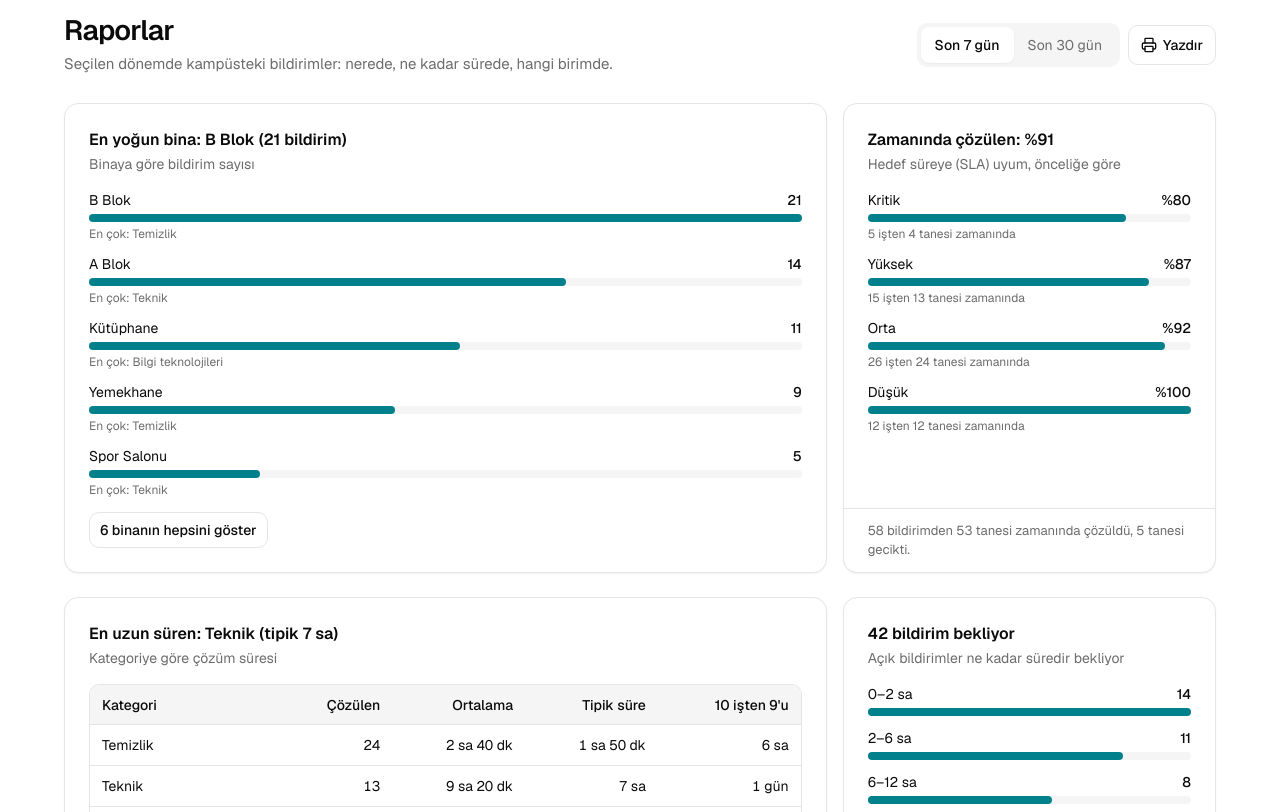
it: Reports › loads the last 30 days when the period is switched
What coordinates should you click on to do the following:
click the button "Son 30 gün"
I would click on:
 (1065, 45)
Its box is [1014,27,1116,63].
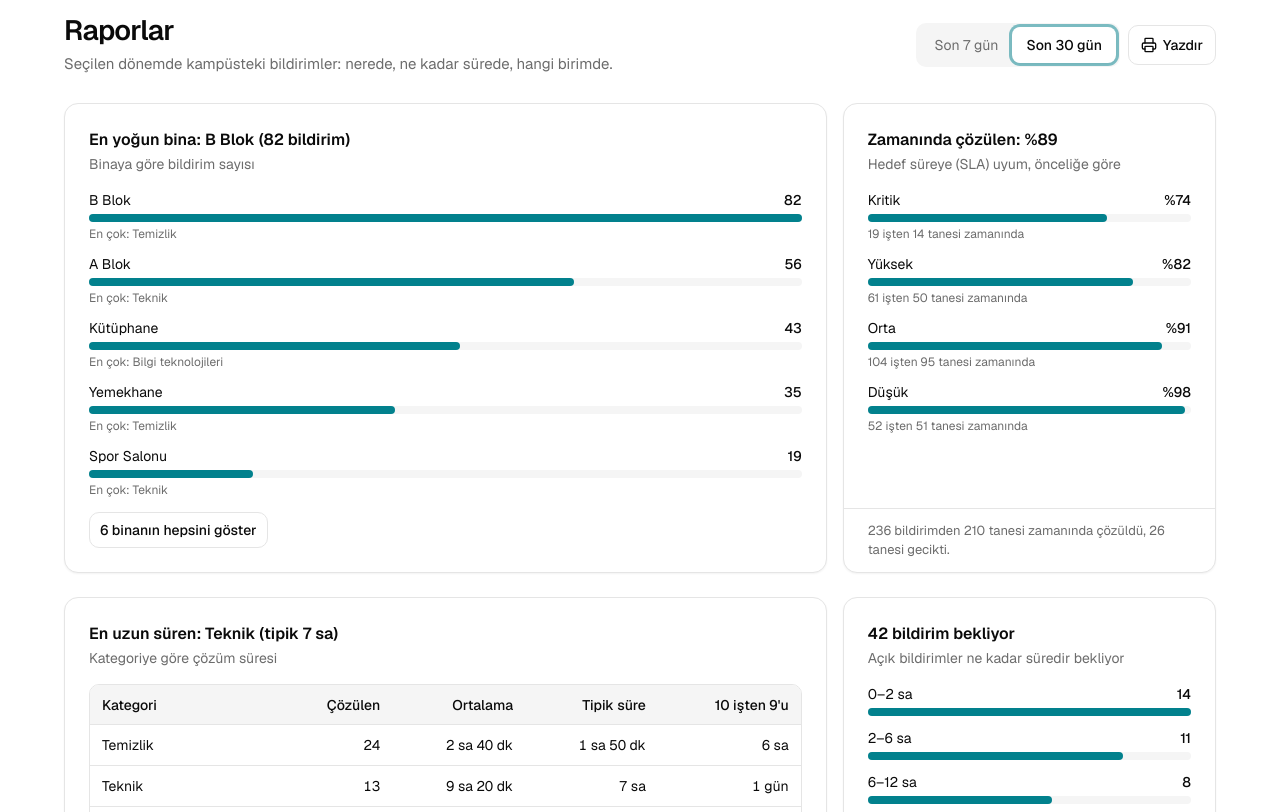
Expected: the heading "En yoğun bina: B Blok (82 bildirim)" is shown, [89,129,350,150]
Expected: the heading "Zamanında çözülen: %89" is shown, [868,129,1058,150]
